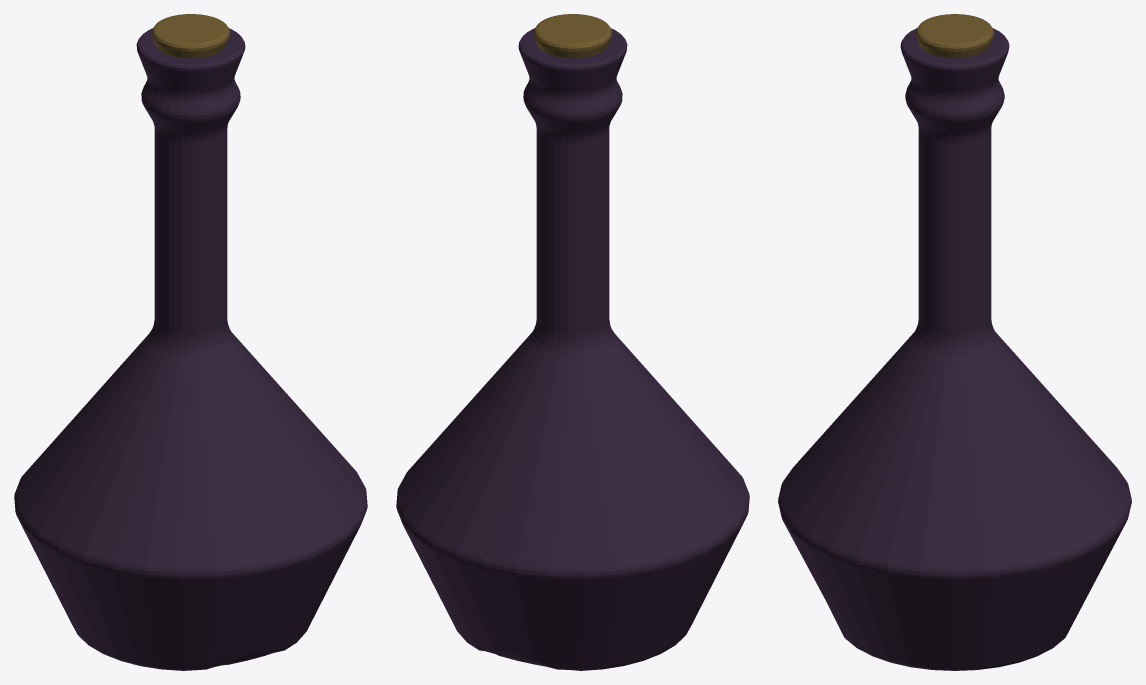
Rendered from SM_Prop_pocion (2).fbx.
The picture shows the model from 3 angles, left to right: view 1: azimuth 30°, elevation 25°; view 2: azimuth 150°, elevation 25°; view 3: azimuth 270°, elevation 25°; orthographic projection.
Parts seen in each view (by area): view 1: corcho; view 2: corcho; view 3: corcho.
Boxes of the visible parts, bbox=[...] form: corcho: bbox=[14, 14, 367, 670]; corcho: bbox=[396, 14, 749, 670]; corcho: bbox=[778, 14, 1131, 670].
Bounding box in the file's own units: 32.3 × 59.8 × 32.29.
